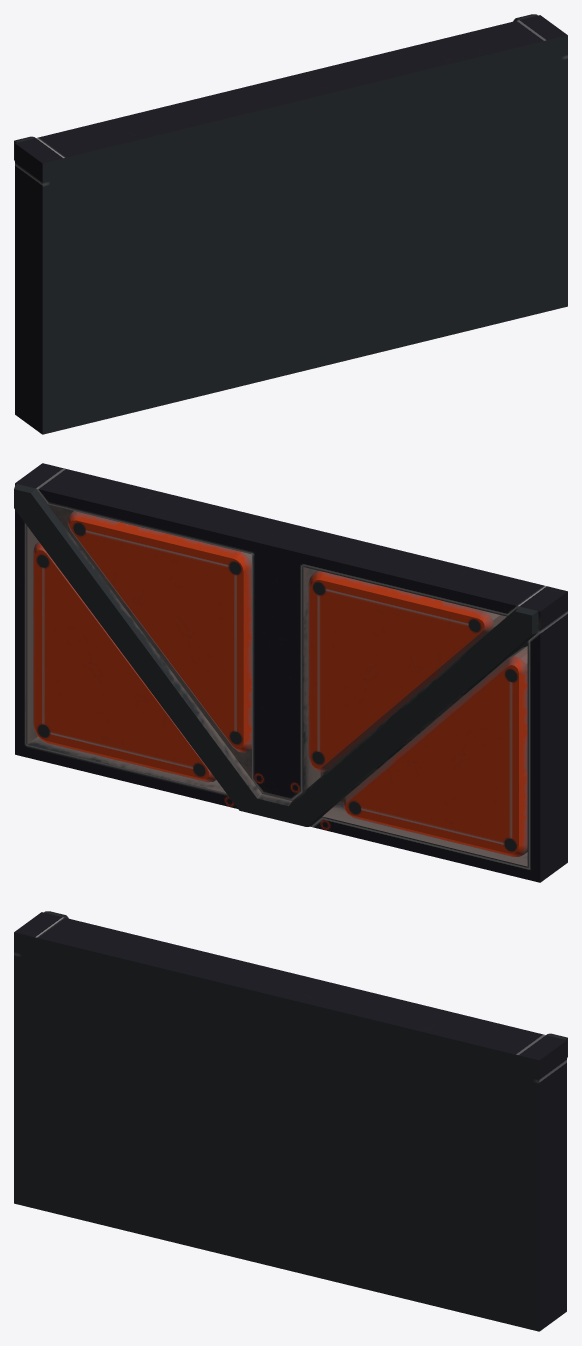
Rendered from Interior2_panel_SciFi_1_BS.fbx.
The picture shows the model from 3 angles, top to bottom: view 1: azimuth 30°, elevation 25°; view 2: azimuth 150°, elevation 25°; view 3: azimuth 330°, elevation 25°; orthographic projection.
Visible parts, largest first — view 1: Interior2_panel_SciFi_1_BS; view 2: Interior2_panel_SciFi_1_BS; view 3: Interior2_panel_SciFi_1_BS.
Part boxes in pixels (<box>): Interior2_panel_SciFi_1_BS: <box>14,14,567,434</box>; Interior2_panel_SciFi_1_BS: <box>14,463,567,882</box>; Interior2_panel_SciFi_1_BS: <box>14,911,567,1331</box>.
Size of the model in its own units: 398 by 196 by 42.25.
1 material, 1 textured.
